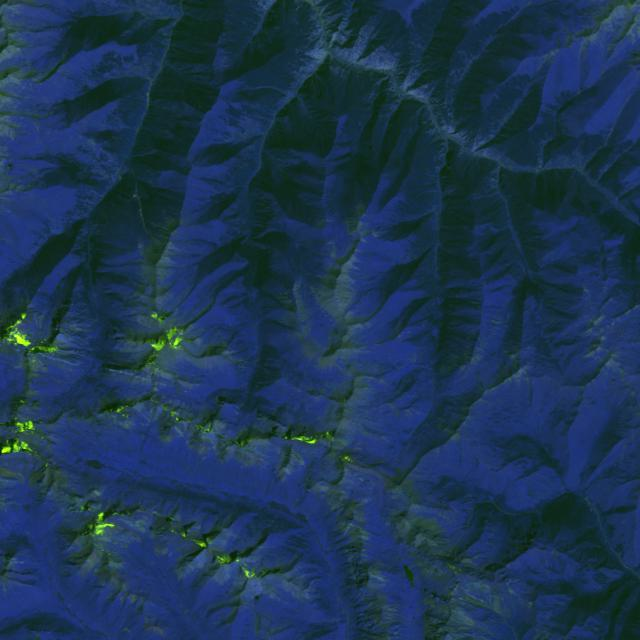landslides: (482, 224, 508, 233), (624, 624, 640, 638), (438, 242, 454, 255), (430, 132, 444, 144), (410, 408, 427, 417), (473, 193, 498, 199), (441, 189, 457, 198), (428, 166, 444, 173), (416, 104, 427, 114)
